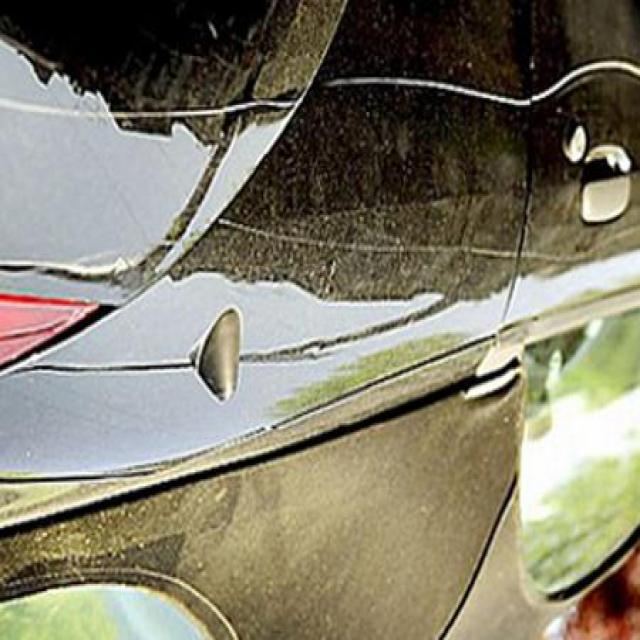scratch: (215, 203, 640, 271), (316, 52, 628, 111), (1, 90, 291, 122)
